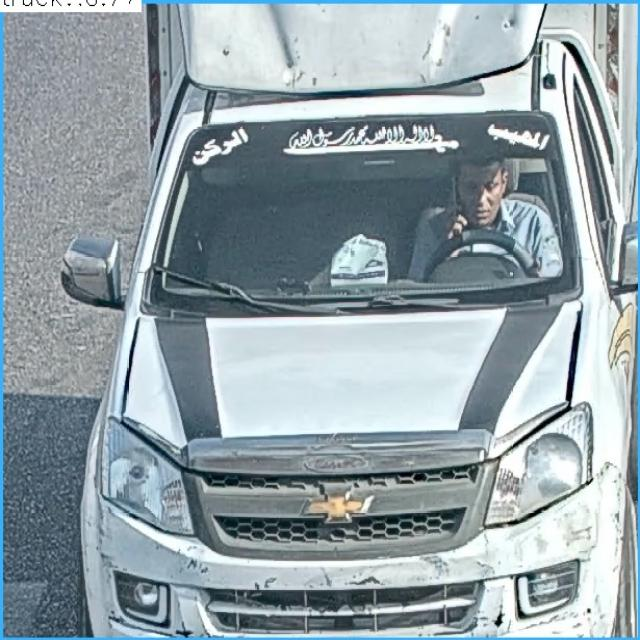windshield: (146, 152, 580, 299)
